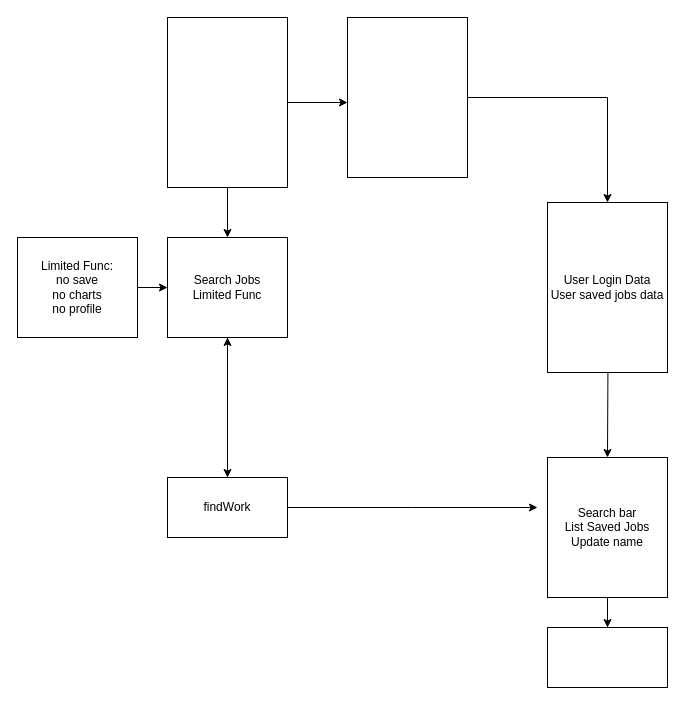
This 685x705 diagram has some shape labels left out. Each missing label, with the centre of its shape:
chartjs: [607,657]
Home prompt login immediate show search bar Login button: [227,102]
Login/Create UserName UserEmail (only on create) UserPassword (Validate): [407,97]
